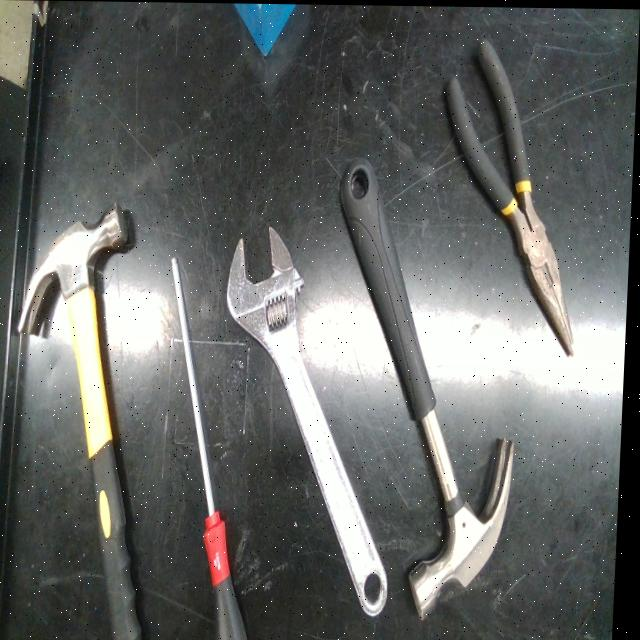Screwdriver: (174, 258, 252, 640)
